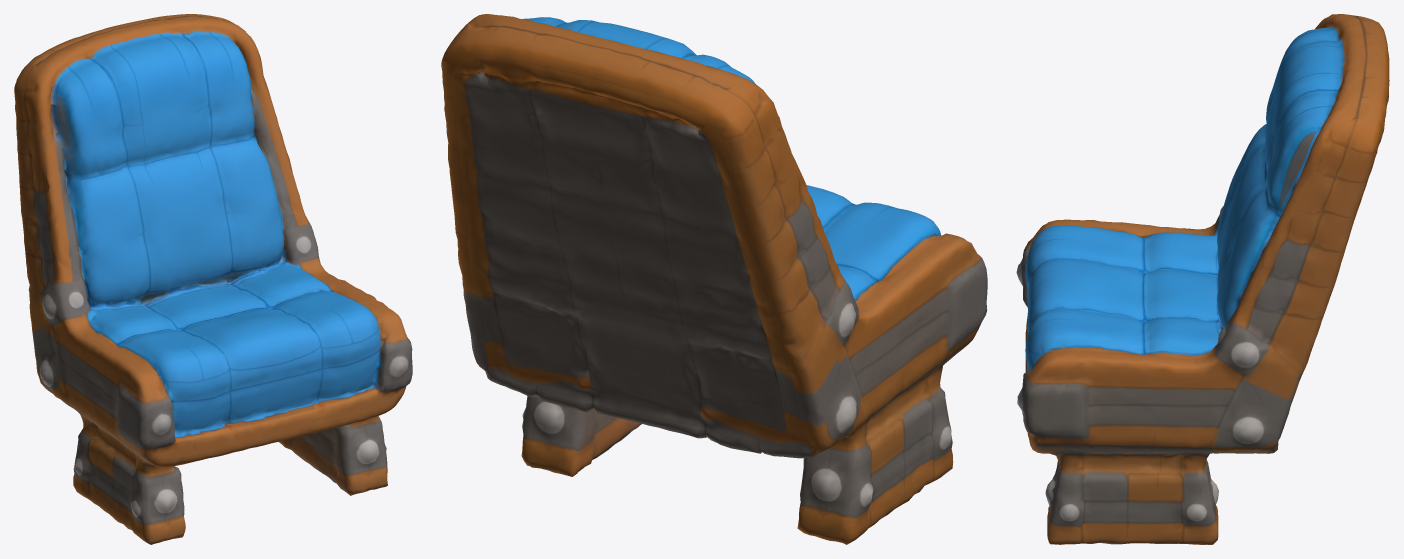
The model's file is FlightRaft_Seat_Blue.fbx.
3 renders of one model, left to right at view 1: azimuth 30°, elevation 25°; view 2: azimuth 150°, elevation 25°; view 3: azimuth 270°, elevation 25°, orthographic. The views are drawn at different scales.
Visible parts, largest first — view 1: texture_mapping; view 2: texture_mapping; view 3: texture_mapping.
Boxes of the visible parts, <box> form: texture_mapping: <box>14,14,412,544</box>; texture_mapping: <box>441,14,987,544</box>; texture_mapping: <box>1016,14,1389,544</box>.
Size of the model in its own units: 0.7382 by 0.7868 by 0.999.
1 material, 1 textured.
